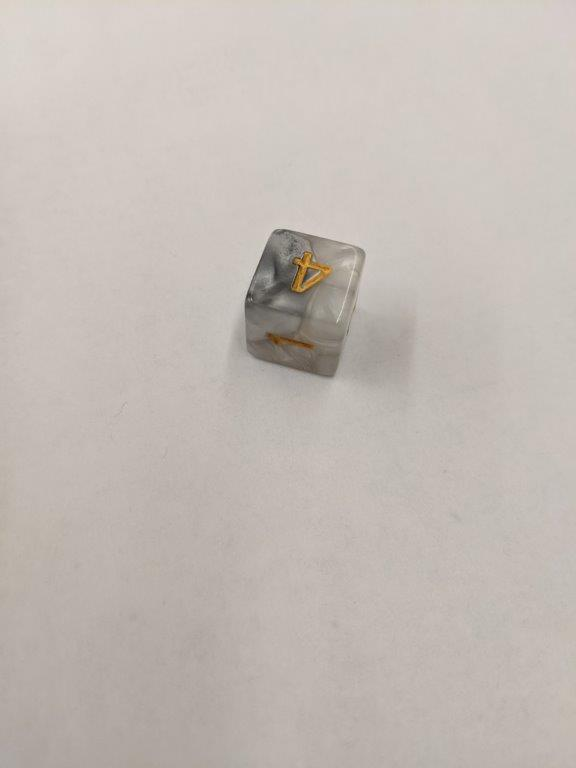d6-4: (244, 225, 368, 381)
